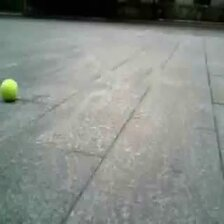tennis: (1, 79, 18, 101)
